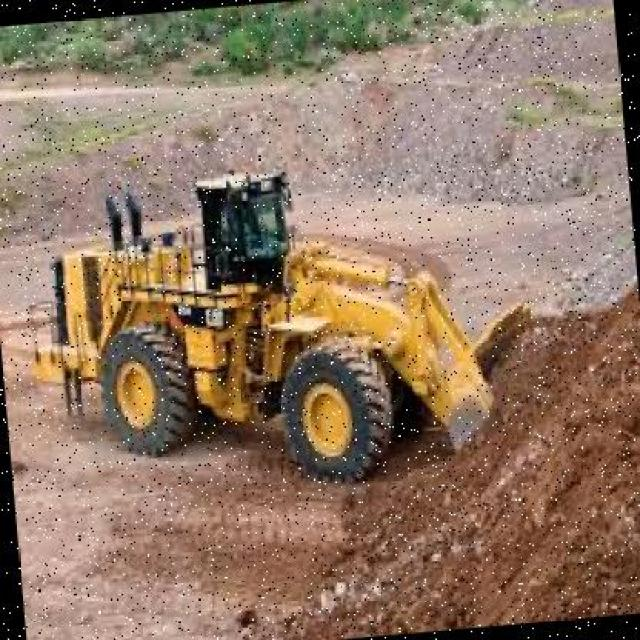buldozerpayloadergrader: (18, 146, 458, 536)
